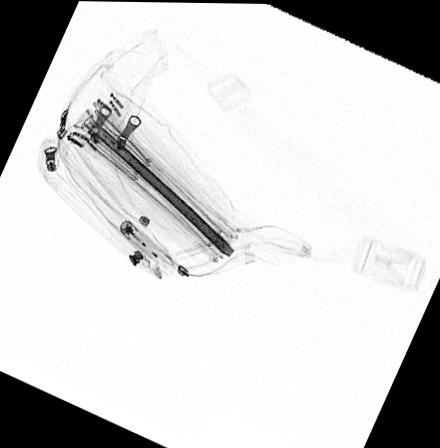Lighter: (118, 220, 169, 267)
